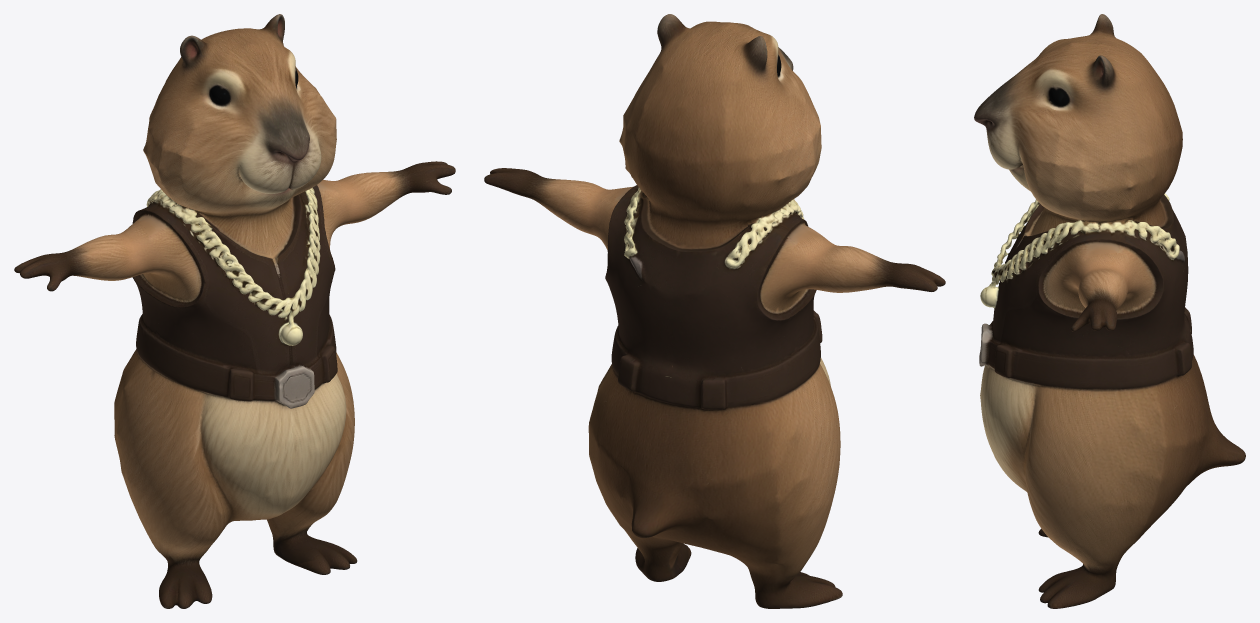
Rendered from Meshy_AI_Boss_Capybara_0828154126_texture.fbx.
3 views of the same model, side by side, from view 1: azimuth 30°, elevation 25°; view 2: azimuth 150°, elevation 25°; view 3: azimuth 270°, elevation 25° (orthographic). The views are drawn at different scales.
Parts seen in each view (by area): view 1: mesh_node; view 2: mesh_node; view 3: mesh_node.
Part boxes in pixels (<box>): mesh_node: <box>14,14,455,608</box>; mesh_node: <box>484,14,945,608</box>; mesh_node: <box>974,14,1245,608</box>.
Bounding box in the file's own units: 159 × 190 × 88.44.
Materials: 1 (1 with a texture image).
